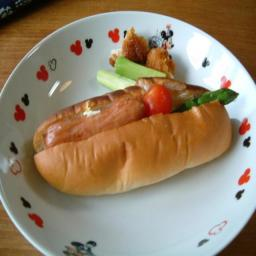hotdog: (22, 80, 240, 196)
